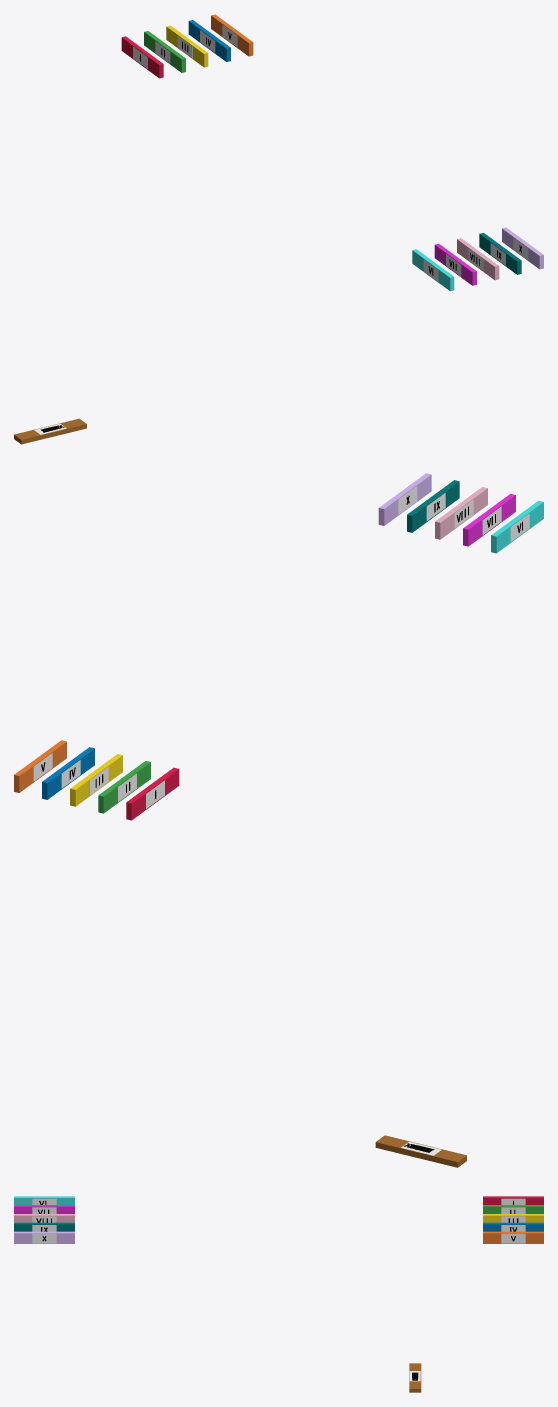
File: colored_planks_env.dae
3 renders of one model, top to bottom at view 1: azimuth 30°, elevation 25°; view 2: azimuth 150°, elevation 25°; view 3: azimuth 270°, elevation 25°, orthographic. The views are drawn at different scales.
Visible parts, largest first — view 1: base (×11); view 2: base (×11); view 3: base (×13).
Boxes of the visible parts, bbox=[...] form: base (×11): bbox=[14, 14, 543, 444]; base (×11): bbox=[14, 473, 543, 1167]; base (×13): bbox=[14, 1196, 543, 1392].
Bounding box in the file's own units: 0.4965 × 1.02 × 0.5147.
